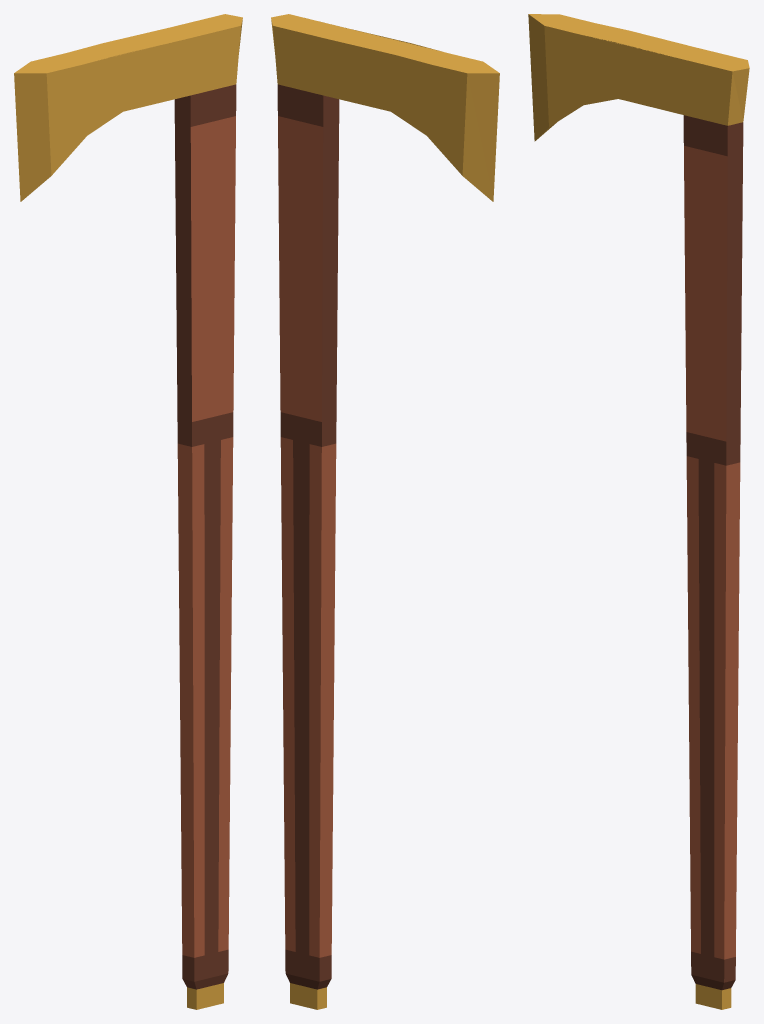
The model's file is Fokos.fbx.
The picture shows the model from 3 angles, left to right: view 1: azimuth 30°, elevation 25°; view 2: azimuth 150°, elevation 25°; view 3: azimuth 330°, elevation 25°; orthographic projection. The views are drawn at different scales.
Visible parts, largest first — view 1: Fokos; view 2: Fokos; view 3: Fokos.
Part boxes in pixels (<box>): Fokos: <box>14,14,242,1009</box>; Fokos: <box>271,14,499,1009</box>; Fokos: <box>528,14,749,1009</box>.
Bounding box in the file's own units: 0.0204 × 0.1687 × 0.6883.
